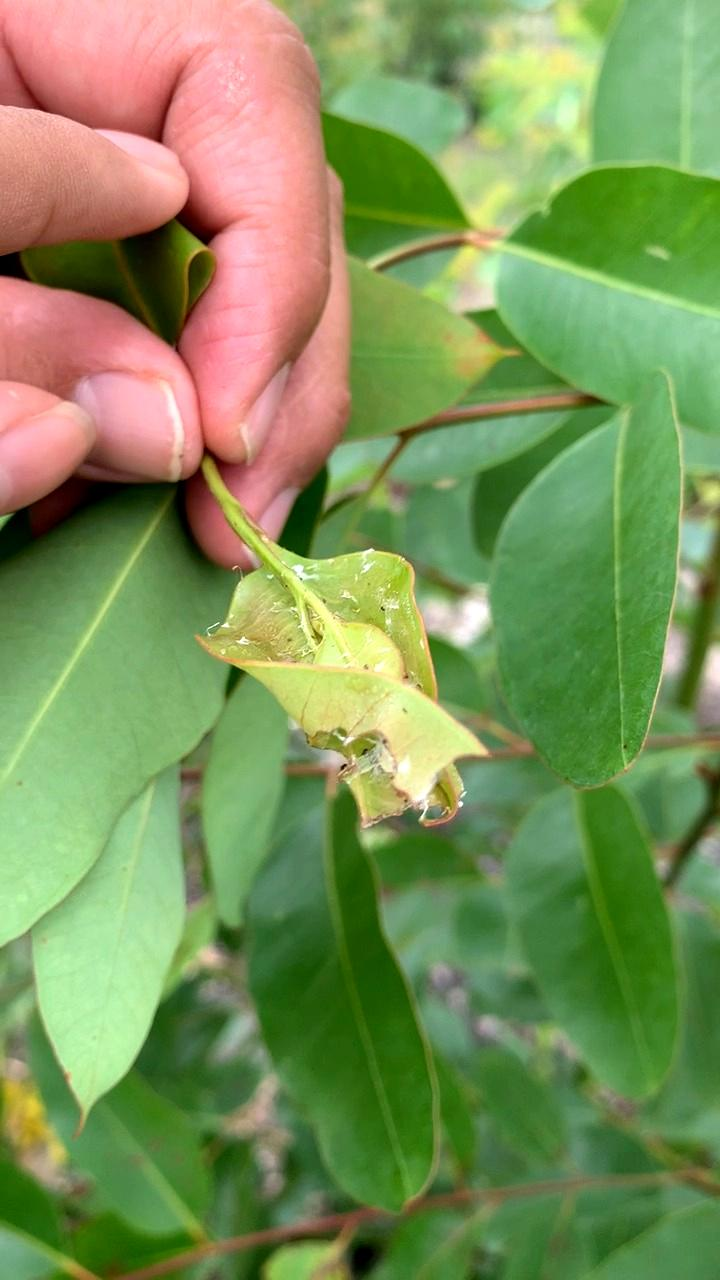Leaf Roller - Leaf: (188, 525, 525, 857)
